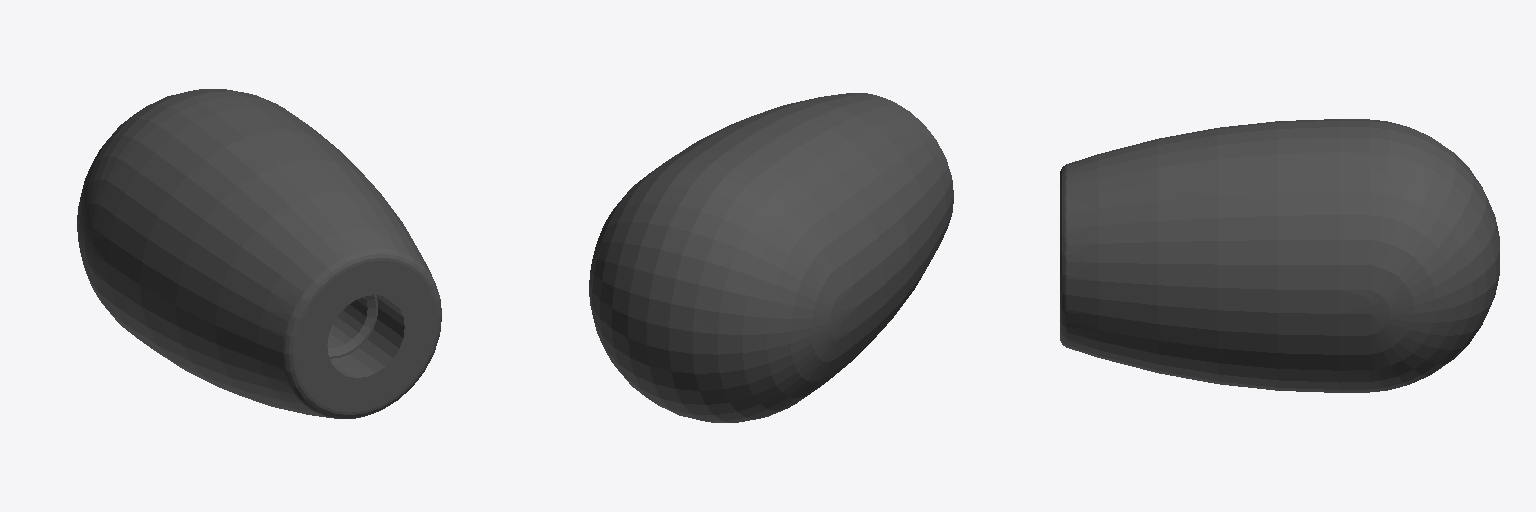
3 renders of one model, left to right at view 1: azimuth 30°, elevation 25°; view 2: azimuth 150°, elevation 25°; view 3: azimuth 270°, elevation 25°, orthographic.
Parts seen in each view (by area): view 1: gn_719-26-m8_1; view 2: gn_719-26-m8_1; view 3: gn_719-26-m8_1.
Boxes of the visible parts, x1,y1,x2,y2 form: gn_719-26-m8_1: [77, 89, 441, 418]; gn_719-26-m8_1: [589, 93, 953, 422]; gn_719-26-m8_1: [1060, 119, 1499, 392].
Size of the model in its own units: 26.09 by 25.98 by 41.89.